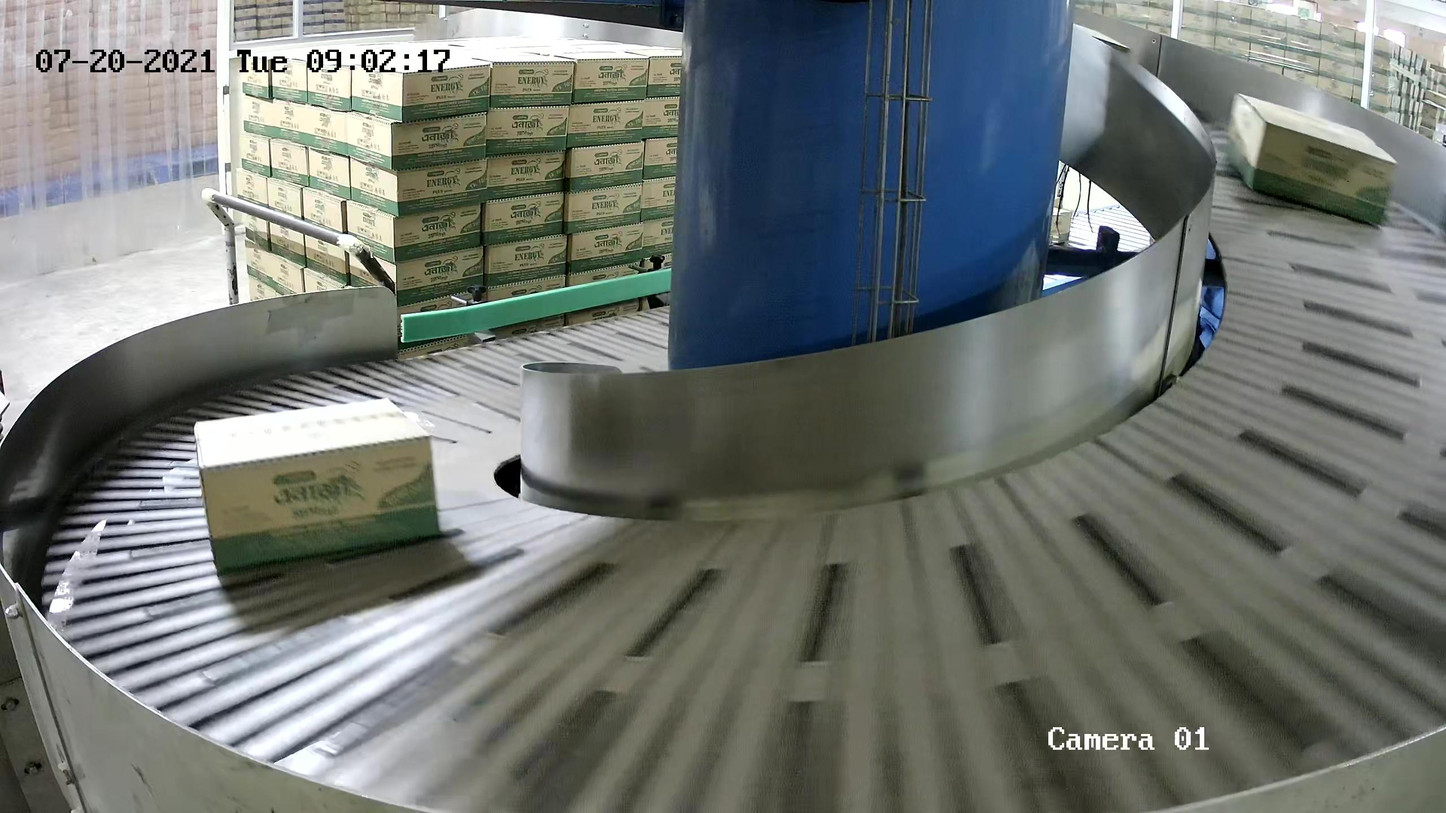Box: (192, 396, 444, 576), (1222, 91, 1398, 233)
